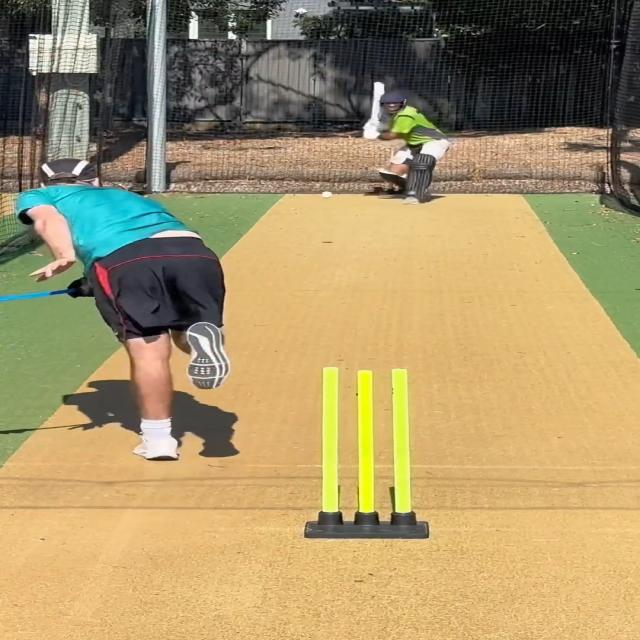ball: (318, 190, 336, 200)
stump: (302, 365, 430, 540)
